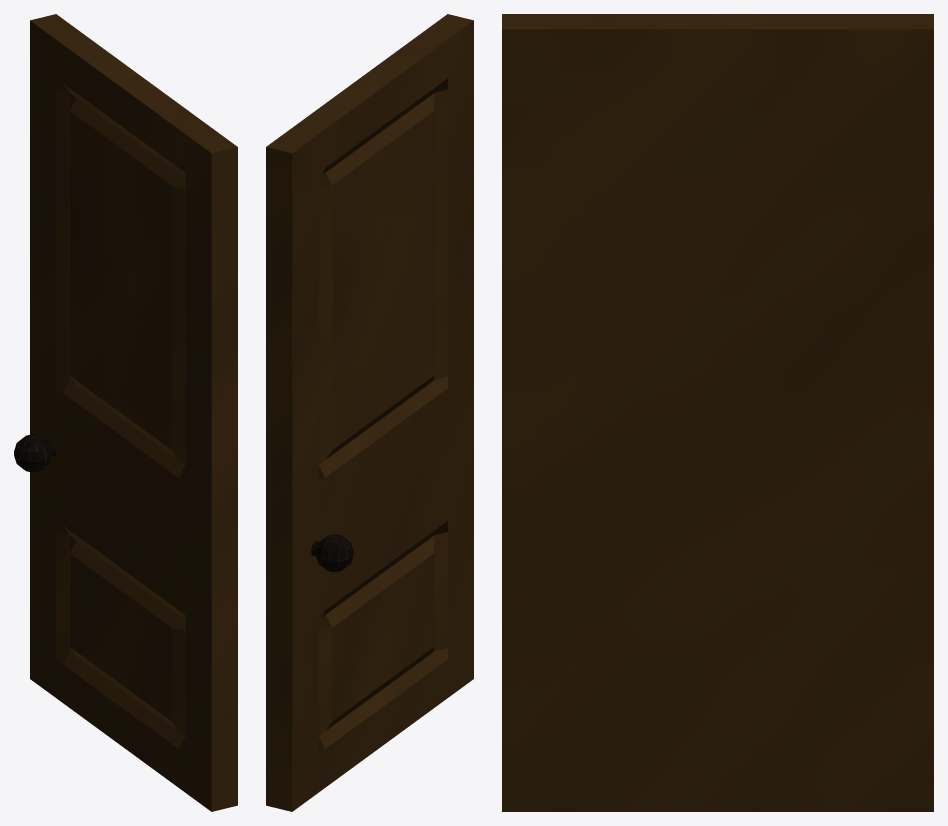
The model's file is wooden_door.obj.
3 renders of one model, left to right at view 1: azimuth 30°, elevation 25°; view 2: azimuth 150°, elevation 25°; view 3: azimuth 270°, elevation 25°, orthographic. The views are drawn at different scales.
Parts seen in each view (by area): view 1: Door, Handle; view 2: Door, Handle; view 3: Door.
Boxes of the visible parts, box(x1,y1,x2,y2) form: Door: box(30, 14, 237, 811); Handle: box(14, 434, 51, 472); Door: box(266, 14, 473, 811); Handle: box(315, 534, 353, 571); Door: box(502, 14, 933, 811).
Size of the model in its own units: 0.1484 by 1.5 by 0.75.
Materials: 1 (1 with a texture image).
